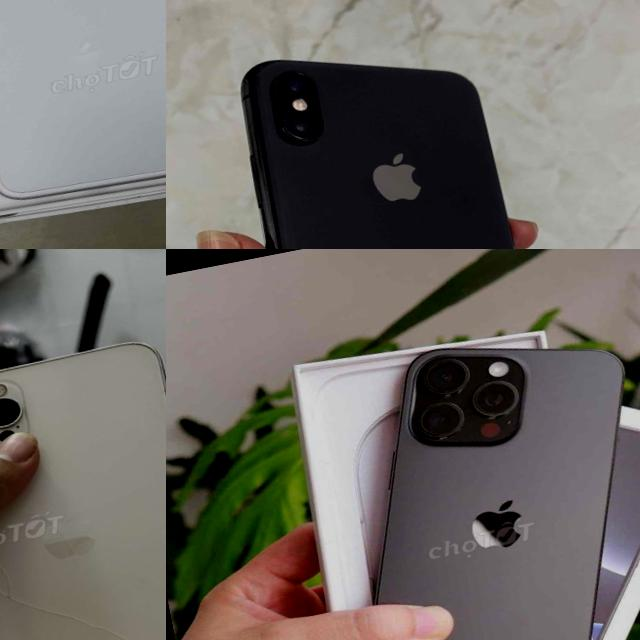physical_damage: (0, 344, 166, 640)
scratch: (230, 46, 292, 98)
